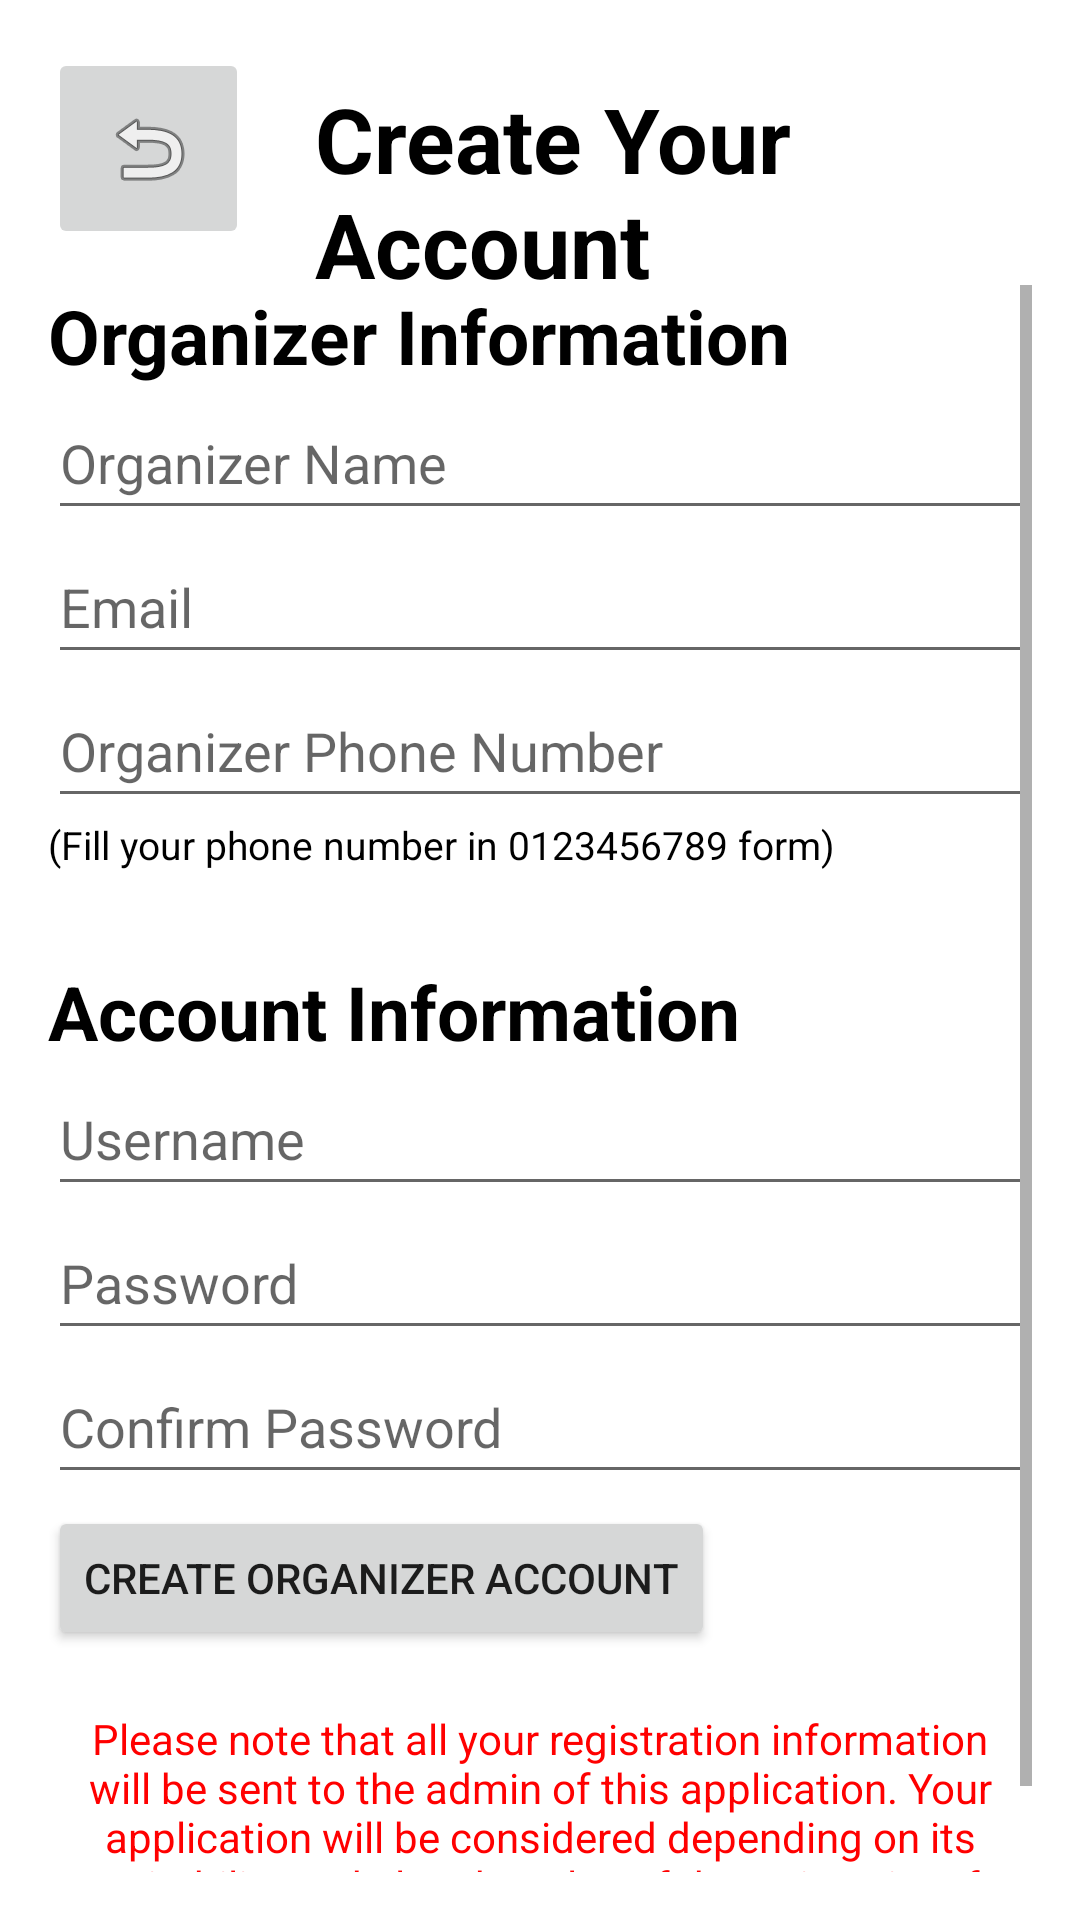

Named icons in this screenshot (1080w x 1920h) and their centers, [x,y]:
revert: [148,148]
